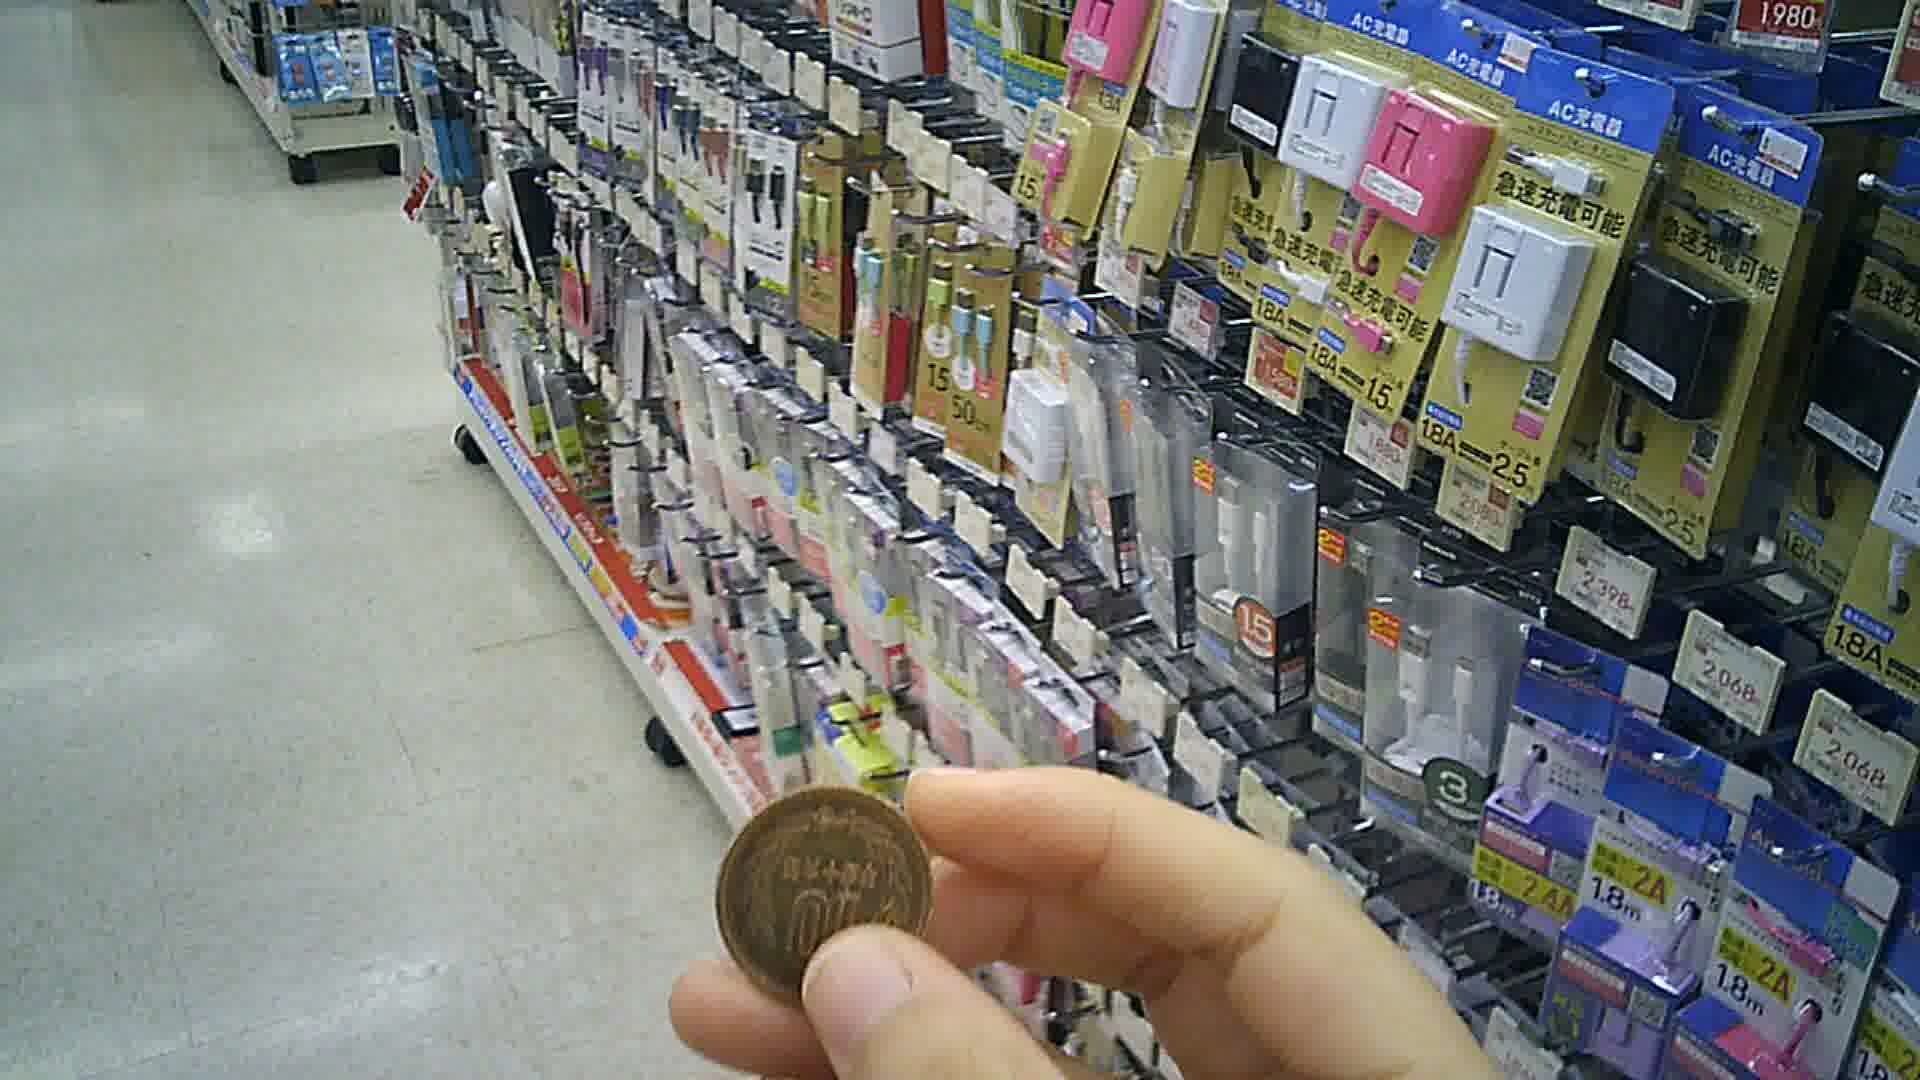10 Yen: (717, 781, 942, 989)
